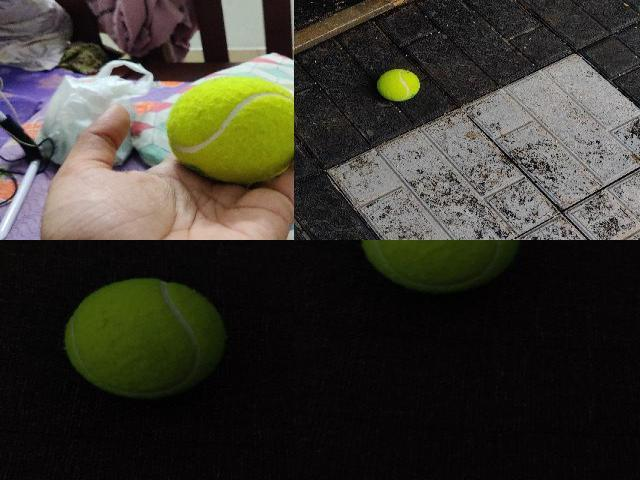tennis-ball: (62, 278, 226, 396), (167, 76, 293, 182), (359, 240, 521, 294), (376, 68, 420, 102)
